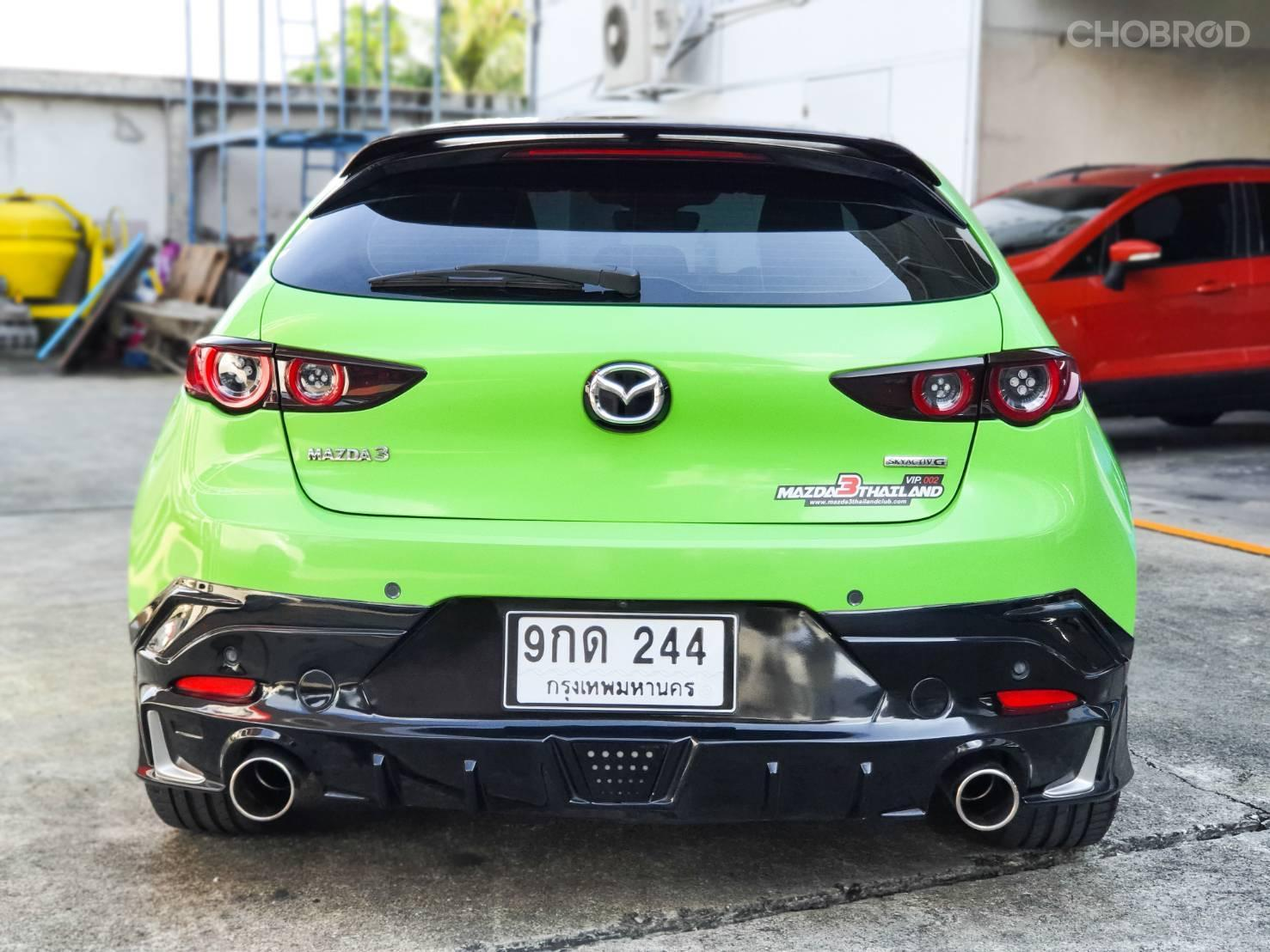license-plate: (506, 611, 738, 712)
